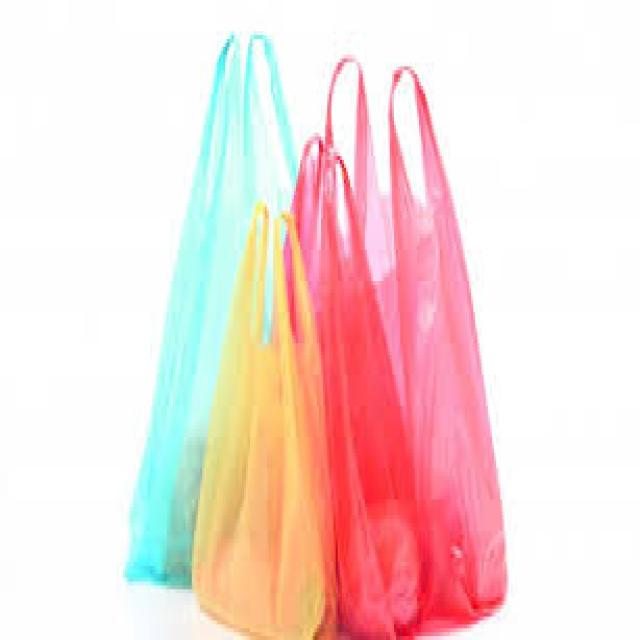plastic: (323, 51, 503, 636), (121, 32, 296, 582), (277, 133, 421, 636), (186, 203, 325, 636)
